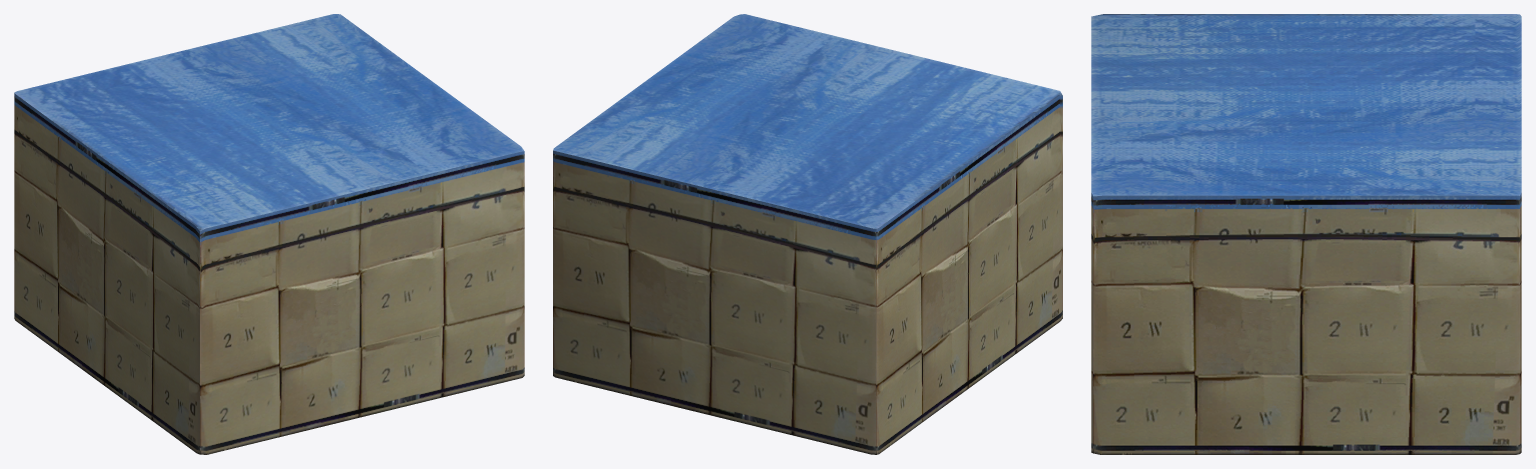
File: Box_Pallet.FBX
3 views of the same model, side by side, from view 1: azimuth 30°, elevation 25°; view 2: azimuth 150°, elevation 25°; view 3: azimuth 270°, elevation 25° (orthographic). The views are drawn at different scales.
Parts seen in each view (by area): view 1: Box_Pallet; view 2: Box_Pallet; view 3: Box_Pallet.
Boxes of the visible parts, x1,y1,x2,y2 form: Box_Pallet: [14, 14, 524, 454]; Box_Pallet: [553, 14, 1062, 454]; Box_Pallet: [1091, 14, 1521, 454].
Bounding box in the file's own units: 1.65 × 1.1 × 1.65.
